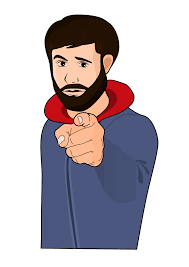hand: (50, 107, 118, 175)
